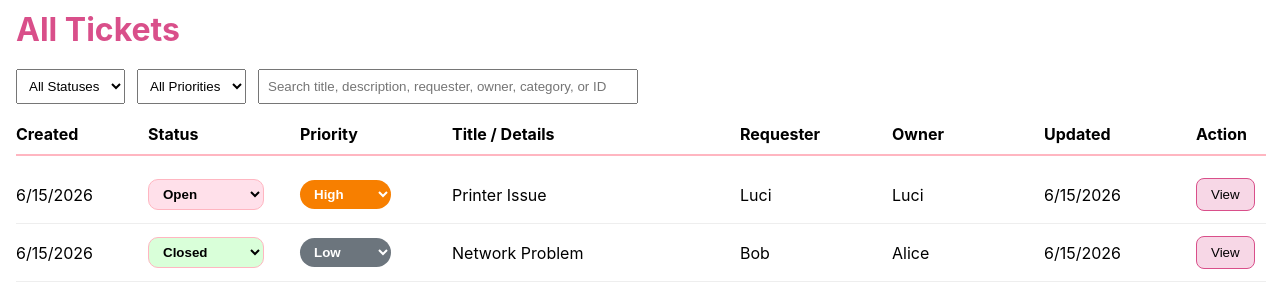
shows no results message
This screenshot has width=1266, height=299.
In the field with placeholder "Search": (448, 87) [258,69,638,104], type "DoesNotExist"
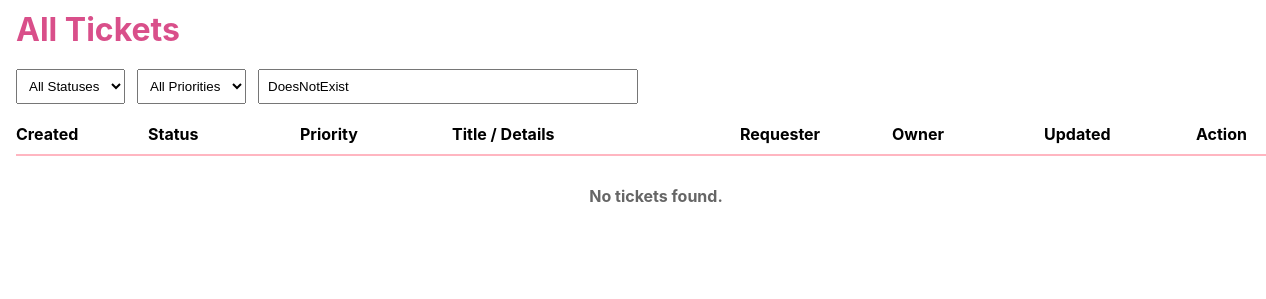
Result: the text "No tickets found." is shown at [589,186,723,206]
